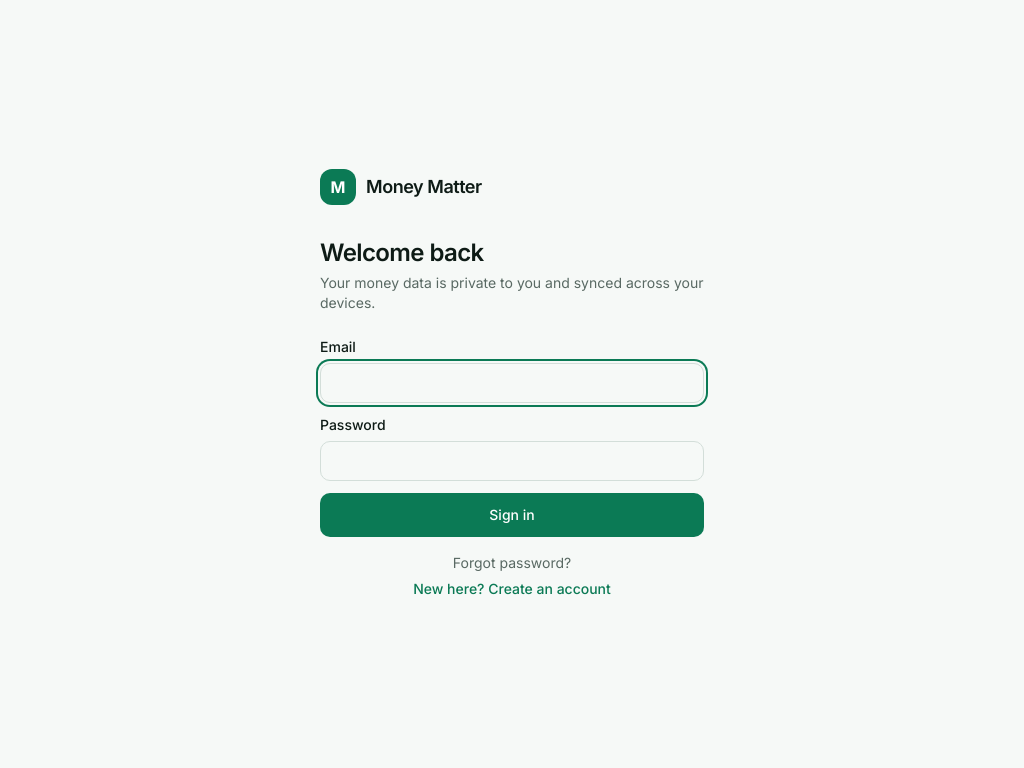
Test: signing in › a brand-new account onboards, then its data is saved to the server
The image size is (1024, 768).
In the field labelled "Email": (512, 383) [320,363,704,403], type "ann@example.com"
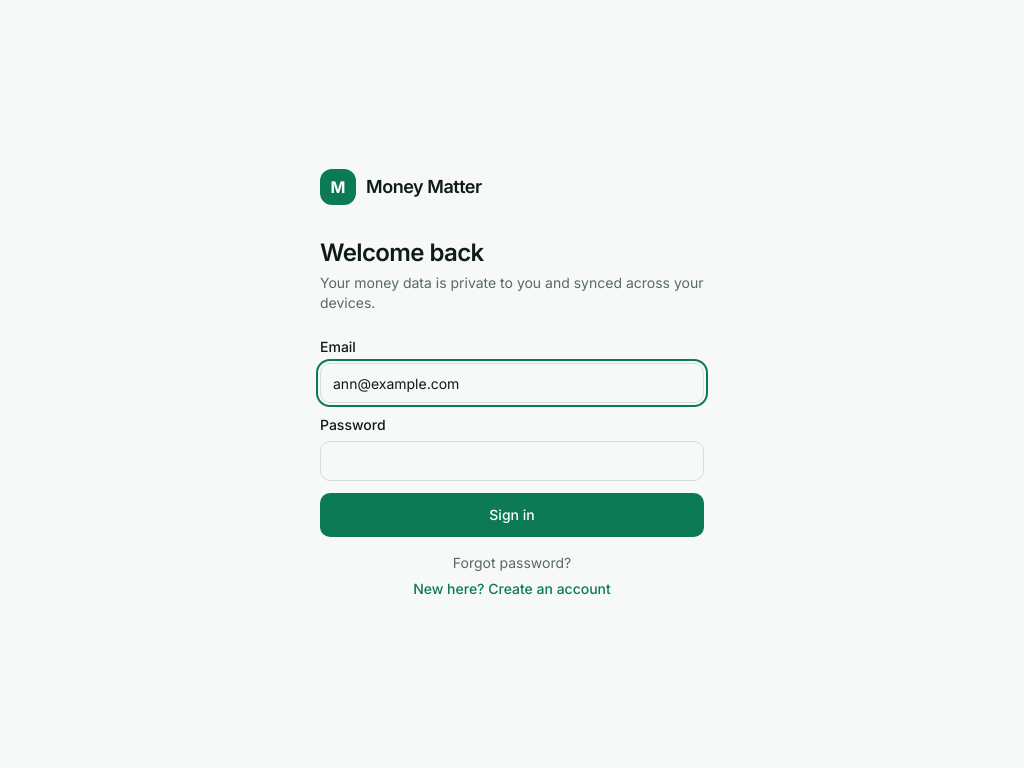
In the password field labelled "Password": (512, 461) [320,441,704,481], type "correct-horse"
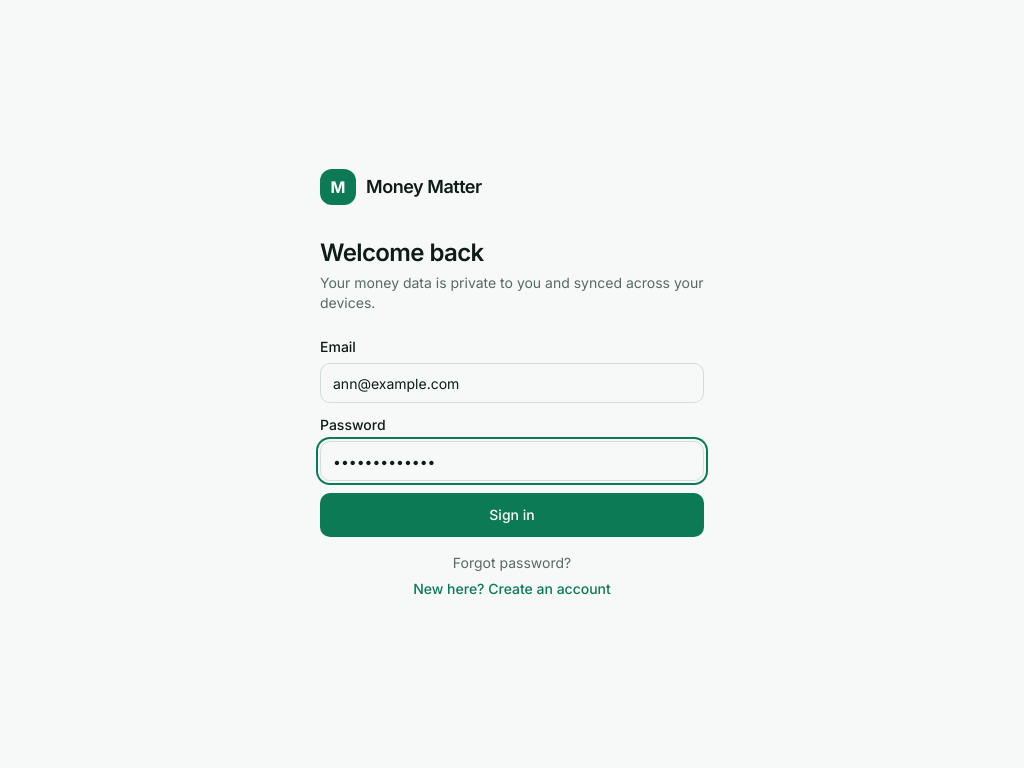
Click the button "Sign in": (512, 515) [320,493,704,537]
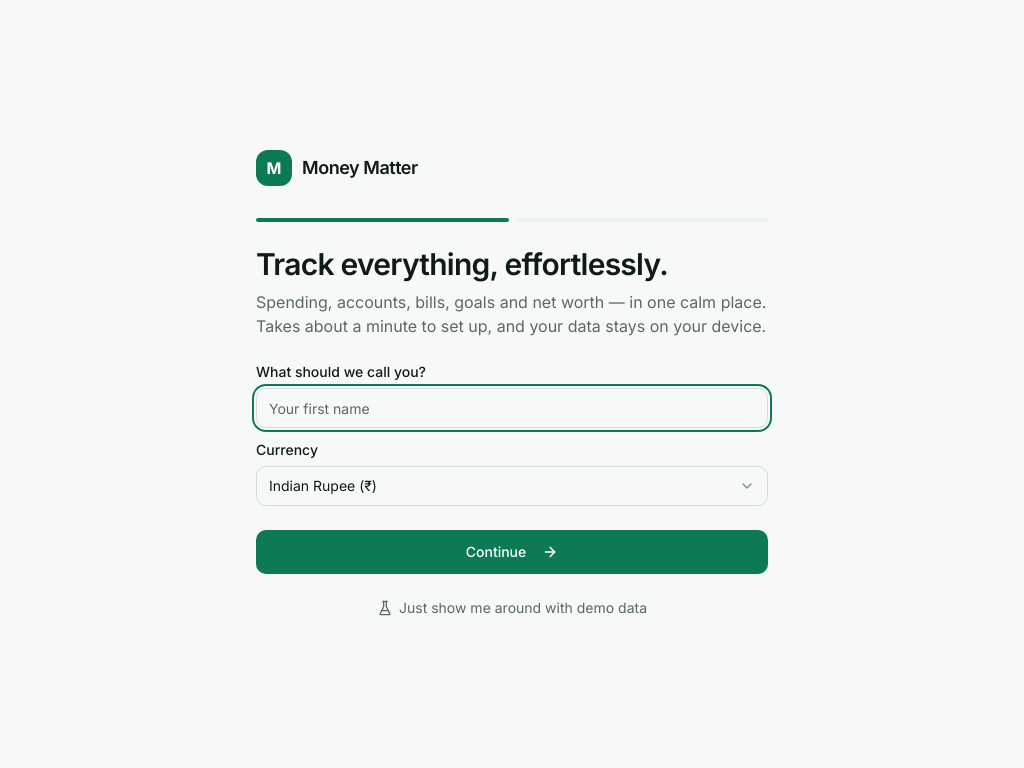
In the field labelled "What should we call you?": (512, 408) [256,388,768,428], type "Ann"
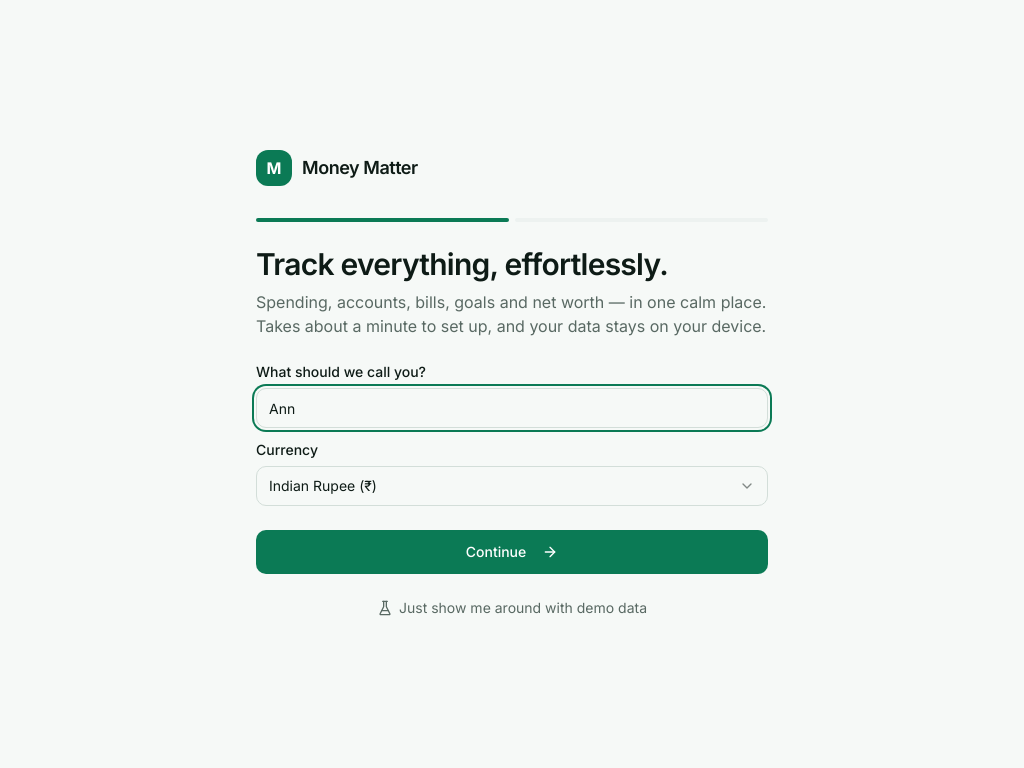
Click the button "Continue": (512, 552) [256,530,768,574]
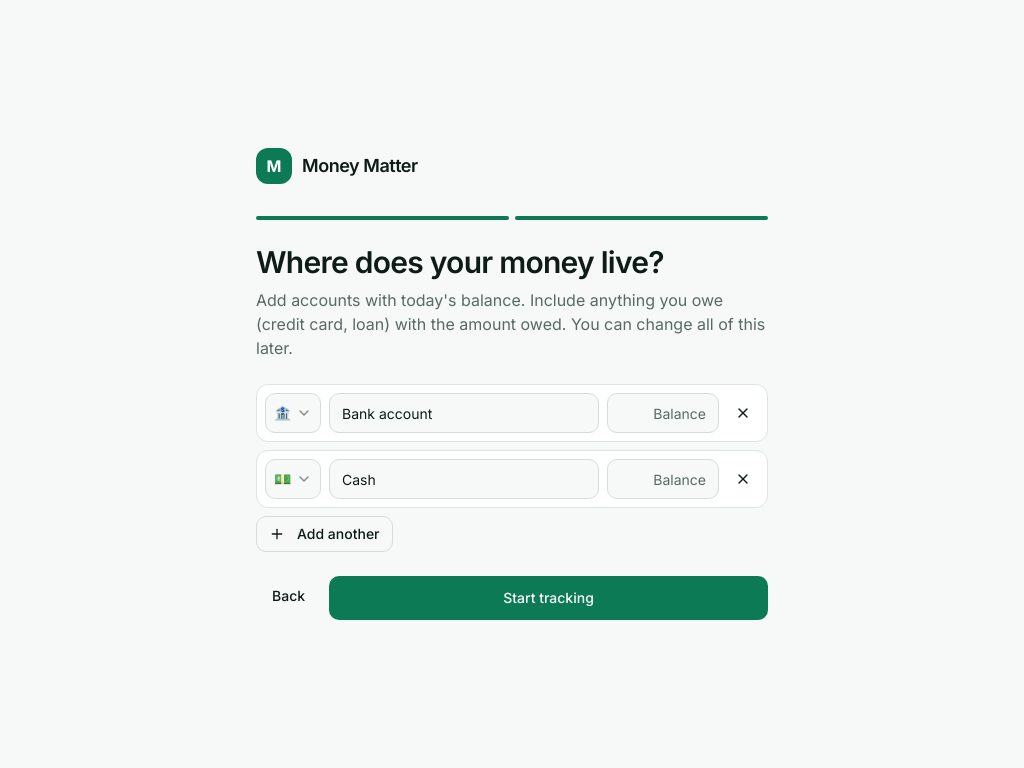
Click the button "Start tracking": (549, 598) [329,576,768,620]
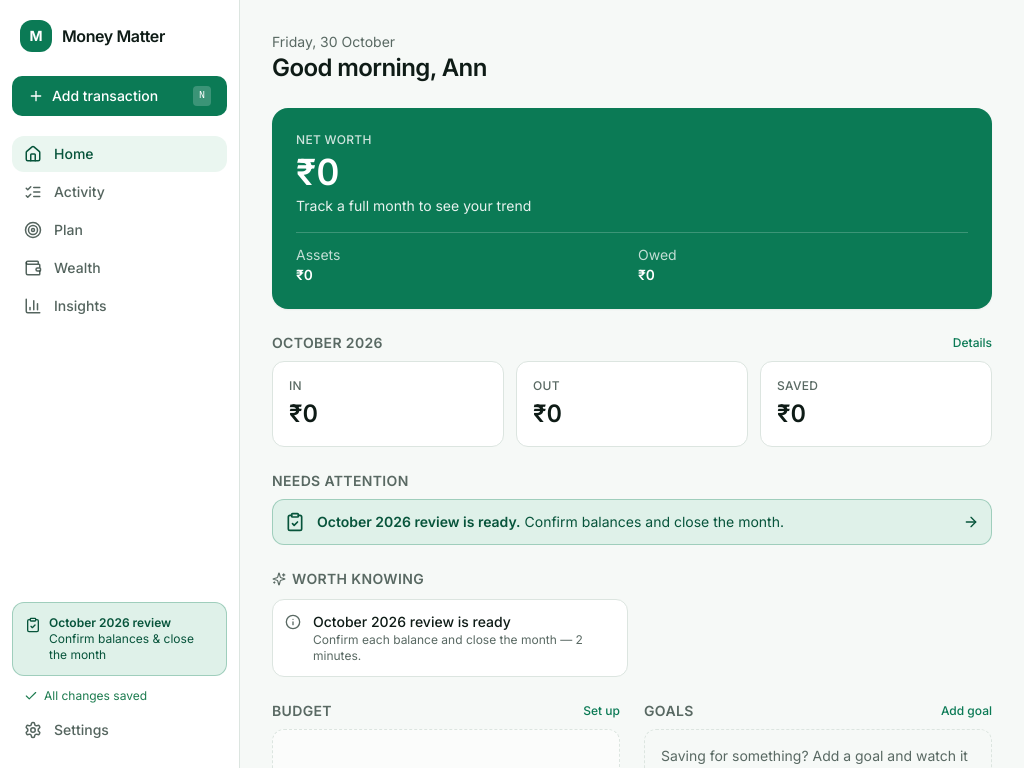
Now the heading "Good morning, Ann" is shown, box [272,53,487,82]
